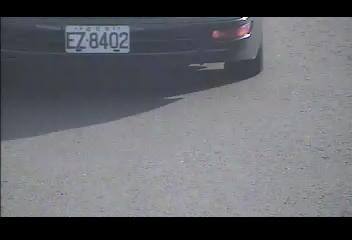plate: (63, 23, 132, 56)
